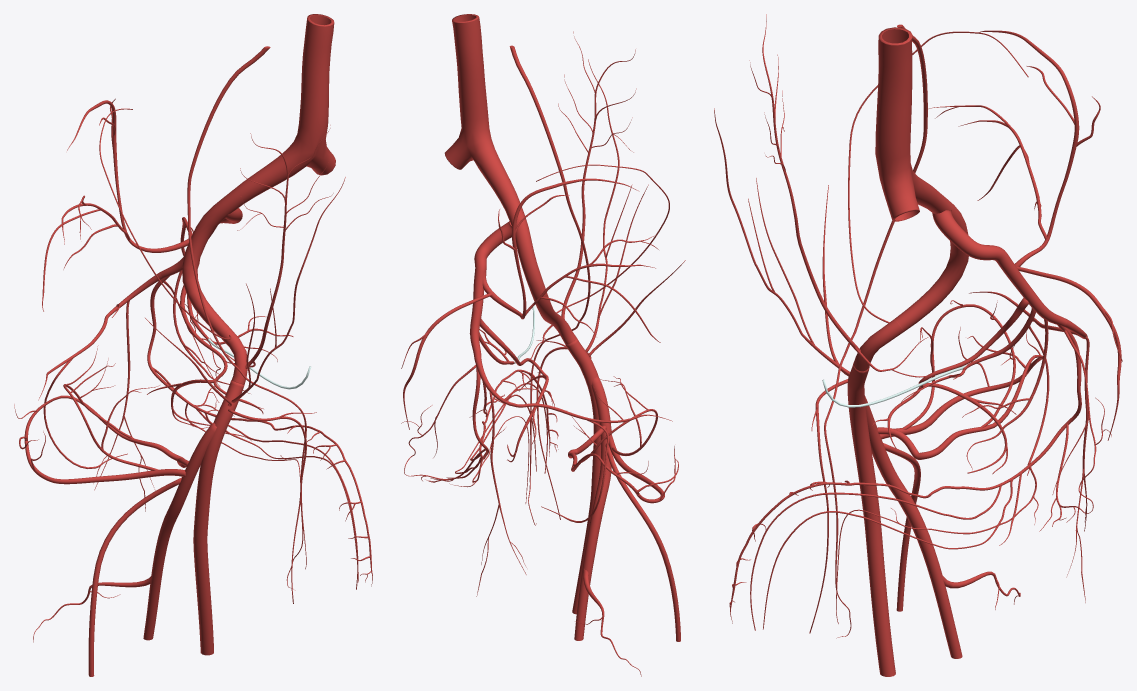
File: open3d-inguinal-canal-arterial-01.glb
3 renders of one model, left to right at view 1: azimuth 30°, elevation 25°; view 2: azimuth 150°, elevation 25°; view 3: azimuth 270°, elevation 25°, orthographic. The views are drawn at different scales.
Visible parts, largest first — view 1: O3D_39270bd0fa7e94, O3D_aab008f62e027a, O3D_d33b6e79be2734, O3D_808f3c05bc709f, O3D_ee4eaa7e9c81ec, O3D_a05bf95785c3fd, O3D_146f2e55a36111, O3D_d611771b7b9622, O3D_51cf618b839f85, O3D_0819a6a19596e1, O3D_1fa40854d50a8a, O3D_205719a9d26784 (+6 smaller); view 2: O3D_39270bd0fa7e94, O3D_d33b6e79be2734, O3D_808f3c05bc709f, O3D_ee4eaa7e9c81ec, O3D_aab008f62e027a, O3D_2453c17d8265b2, O3D_d611771b7b9622, O3D_a05bf95785c3fd, O3D_205719a9d26784, O3D_146f2e55a36111, O3D_0819a6a19596e1, O3D_1fa40854d50a8a (+6 smaller); view 3: O3D_39270bd0fa7e94, O3D_aab008f62e027a, O3D_d33b6e79be2734, O3D_808f3c05bc709f, O3D_2453c17d8265b2, O3D_0819a6a19596e1, O3D_ee4eaa7e9c81ec, O3D_1fa40854d50a8a, O3D_d611771b7b9622, O3D_205719a9d26784, O3D_a05bf95785c3fd, O3D_2eef0089a622c9 (+14 smaller).
Boxes of the visible parts, x1,y1,x2,y2 form: O3D_39270bd0fa7e94: [182, 14, 335, 336]; O3D_aab008f62e027a: [193, 380, 244, 655]; O3D_d33b6e79be2734: [143, 423, 216, 640]; O3D_808f3c05bc709f: [42, 98, 188, 311]; O3D_ee4eaa7e9c81ec: [38, 271, 163, 511]; O3D_a05bf95785c3fd: [88, 477, 181, 676]; O3D_146f2e55a36111: [187, 46, 270, 326]; O3D_d611771b7b9622: [237, 125, 333, 368]; O3D_51cf618b839f85: [24, 431, 185, 484]; O3D_0819a6a19596e1: [147, 260, 263, 426]; O3D_1fa40854d50a8a: [14, 395, 188, 467]; O3D_205719a9d26784: [231, 177, 345, 403]; O3D_39270bd0fa7e94: [444, 14, 557, 323]; O3D_d33b6e79be2734: [574, 376, 611, 640]; O3D_808f3c05bc709f: [482, 178, 660, 342]; O3D_ee4eaa7e9c81ec: [474, 356, 672, 596]; O3D_aab008f62e027a: [565, 338, 600, 614]; O3D_2453c17d8265b2: [470, 221, 512, 357]; O3D_d611771b7b9622: [558, 31, 636, 319]; O3D_a05bf95785c3fd: [605, 443, 680, 641]; O3D_205719a9d26784: [585, 59, 648, 352]; O3D_146f2e55a36111: [509, 45, 590, 295]; O3D_0819a6a19596e1: [480, 318, 548, 462]; O3D_1fa40854d50a8a: [568, 425, 678, 494]; O3D_39270bd0fa7e94: [875, 27, 968, 331]; O3D_aab008f62e027a: [847, 362, 895, 676]; O3D_d33b6e79be2734: [865, 396, 962, 658]; O3D_808f3c05bc709f: [928, 30, 1100, 266]; O3D_2453c17d8265b2: [932, 210, 1066, 326]; O3D_0819a6a19596e1: [872, 297, 1028, 474]; O3D_ee4eaa7e9c81ec: [969, 291, 1089, 602]; O3D_1fa40854d50a8a: [877, 332, 1042, 459]; O3D_d611771b7b9622: [749, 14, 860, 353]; O3D_205719a9d26784: [714, 108, 850, 375]; O3D_a05bf95785c3fd: [883, 443, 920, 611]; O3D_2eef0089a622c9: [931, 325, 1081, 494].
Size of the model in its own units: 0.1676 by 0.3486 by 0.1828.
